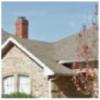chimneys: (15, 16, 30, 40)
